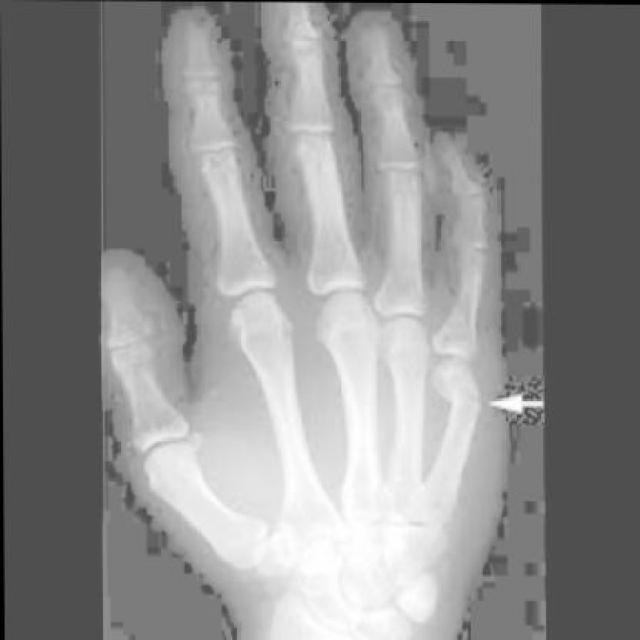Fracture: (443, 357, 490, 411)
